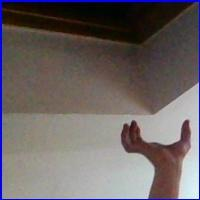space: (115, 117, 195, 162)
